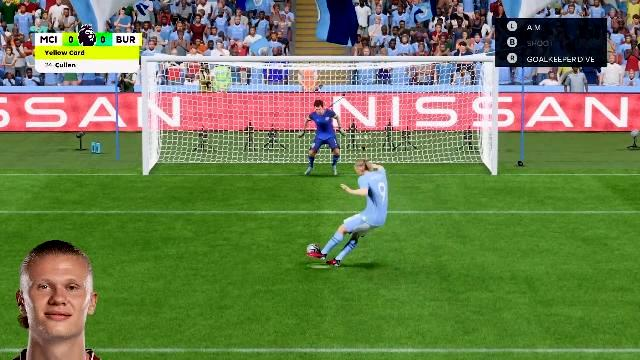bottom-left: (150, 125, 270, 177)
bottom-right: (376, 124, 488, 173)
center-down: (272, 124, 374, 176)
center-up: (272, 65, 374, 123)
circle: (306, 262, 334, 268)
football: (307, 244, 321, 255)
goalkeeper: (294, 88, 342, 180)
player: (322, 145, 404, 273)
top-left: (150, 65, 270, 123)
top-right: (375, 66, 489, 124)
